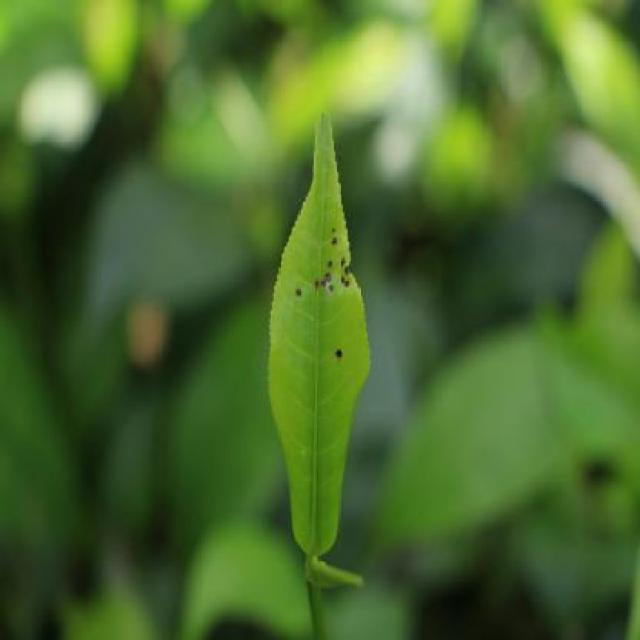Tea Mosquito bug infested leaf: (270, 103, 372, 554)
